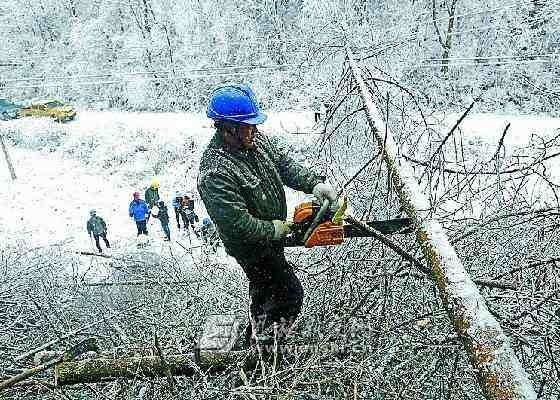blue: (203, 79, 264, 150)
